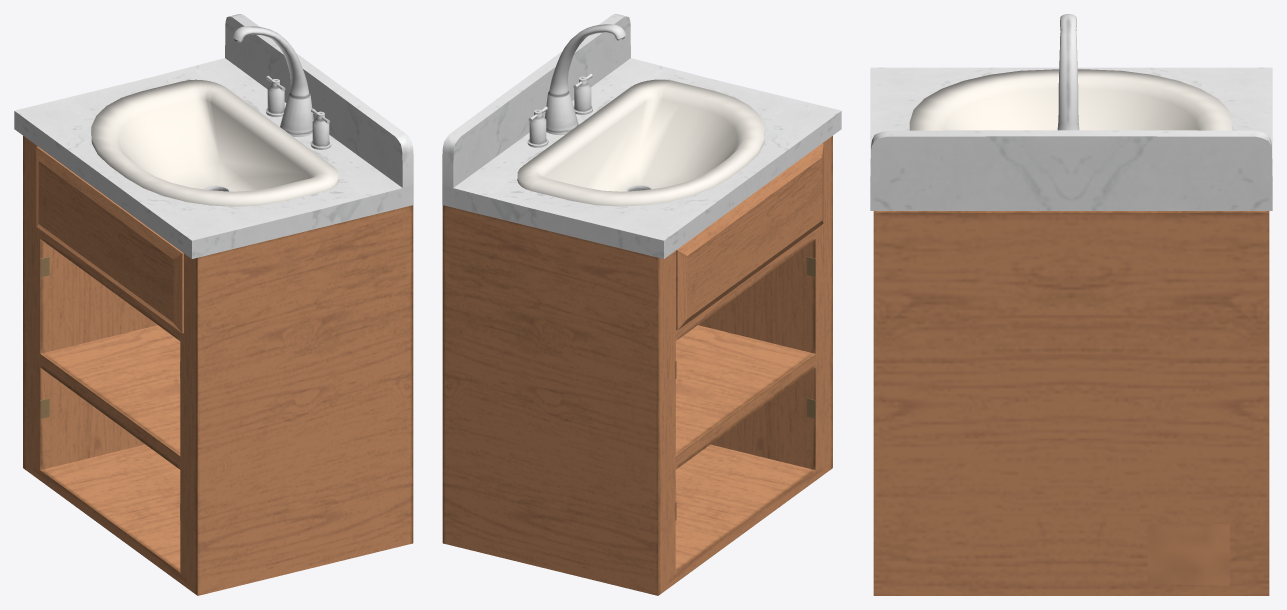
Rendered from SM_BathShelf_B1.fbx.
3 renders of one model, left to right at view 1: azimuth 30°, elevation 25°; view 2: azimuth 150°, elevation 25°; view 3: azimuth 270°, elevation 25°, orthographic. The views are drawn at different scales.
Visible parts, largest first — view 1: SM_BathShelf_B1; view 2: SM_BathShelf_B1; view 3: SM_BathShelf_B1.
Boxes of the visible parts, box(x1,y1,x2,y2) form: SM_BathShelf_B1: box(14, 14, 413, 595); SM_BathShelf_B1: box(442, 14, 841, 595); SM_BathShelf_B1: box(870, 14, 1272, 595).
Bounding box in the file's own units: 58.83 × 79.81 × 117.
Materials: 2 (2 with a texture image).
